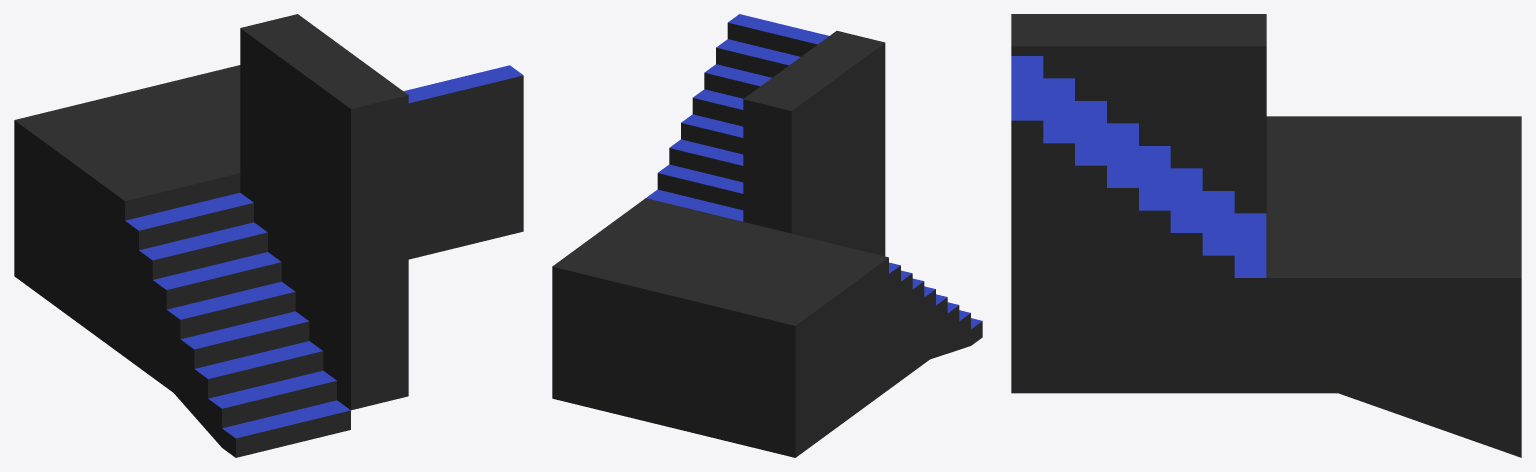
File: Stairs_2.fbx
The picture shows the model from 3 angles, left to right: view 1: azimuth 30°, elevation 25°; view 2: azimuth 150°, elevation 25°; view 3: azimuth 270°, elevation 25°; orthographic projection. The views are drawn at different scales.
Visible parts, largest first — view 1: MainStairs.007; view 2: MainStairs.007; view 3: MainStairs.007.
Part boxes in pixels (x1,y1,x2,y2): MainStairs.007: (14, 14, 523, 457); MainStairs.007: (552, 14, 982, 457); MainStairs.007: (1011, 14, 1521, 457).
Size of the model in its own units: 300 by 319 by 400.
